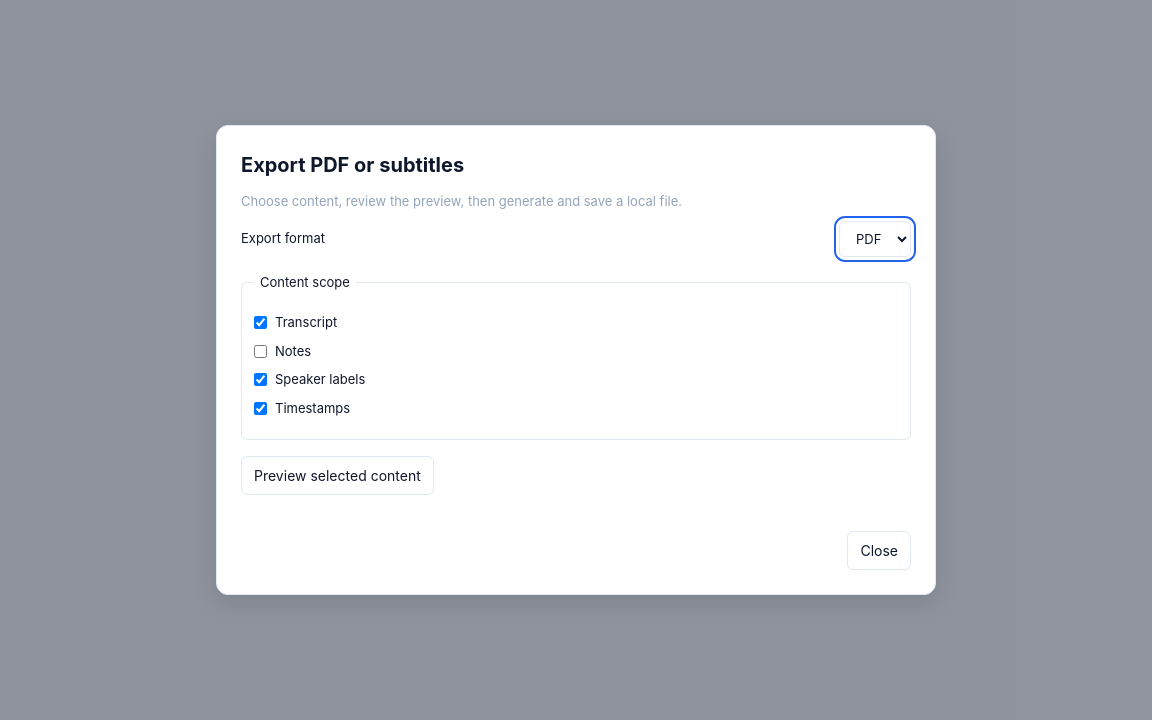
conflict refreshes accepted source and requires fresh review, preserving chosen scope
Click the button "Preview selected content" at {"x": 337, "y": 476}, box [241,456,434,495]
(page scrolled)
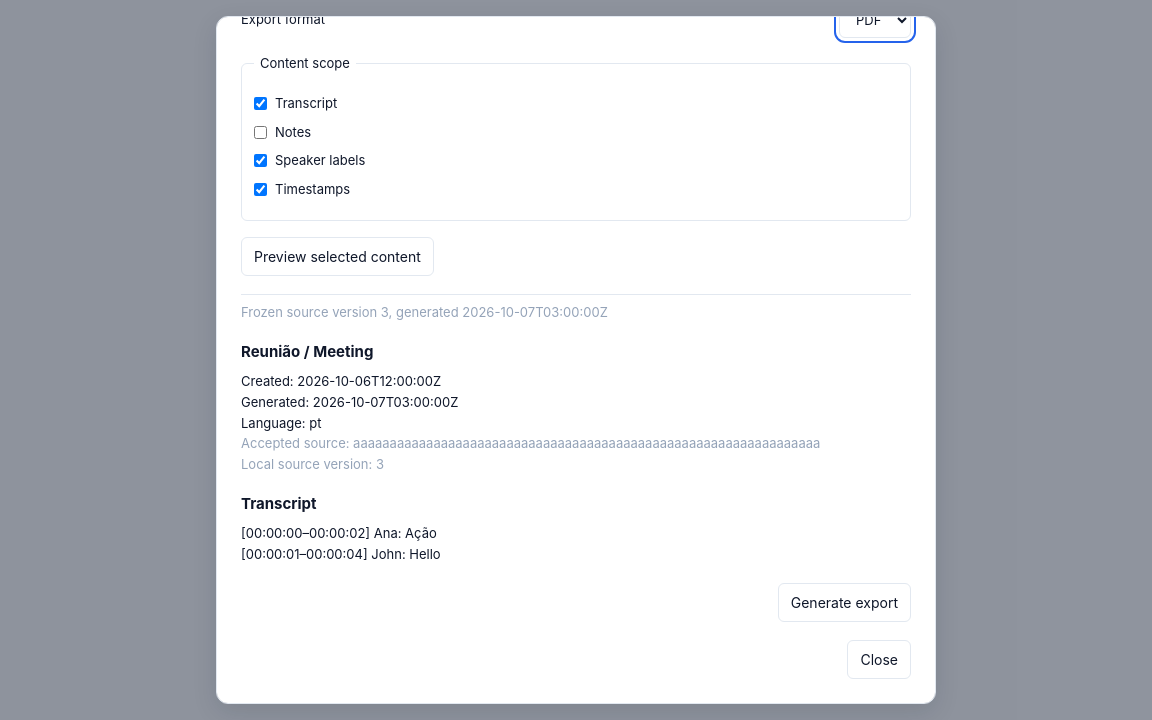
Click the button "Generate export" at {"x": 844, "y": 603}, box [778,583,911,622]
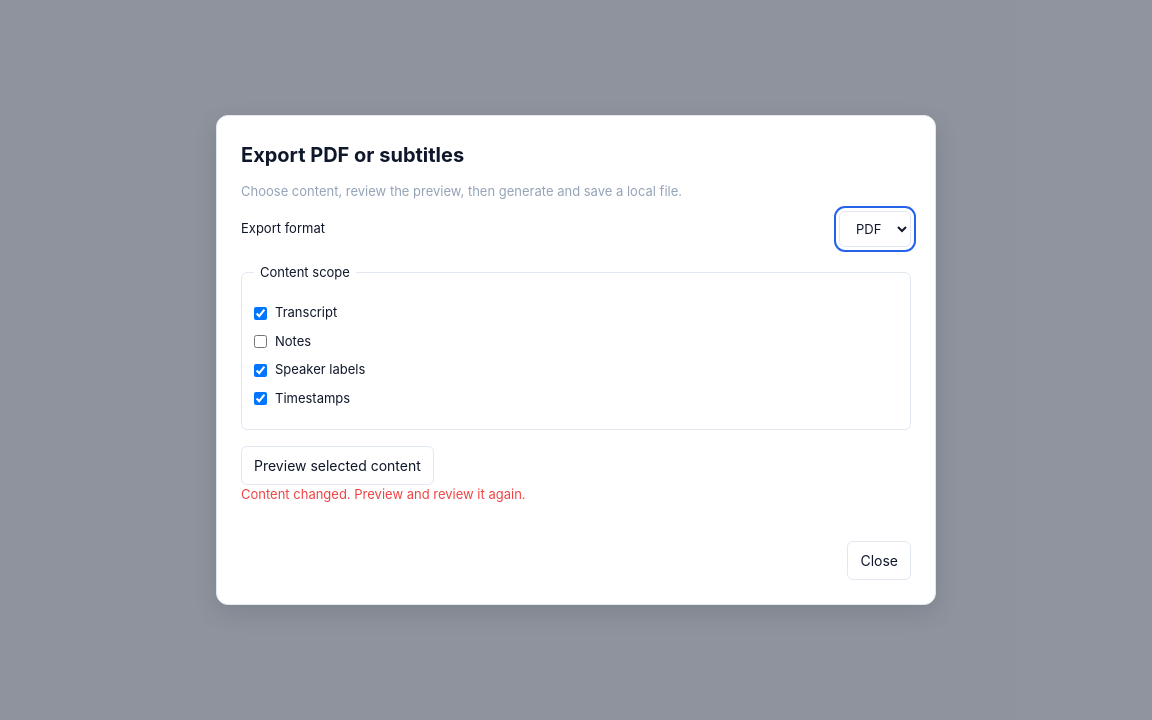
Check: the checkbox labelled "Transcript" is checked, box [254,306,267,320]
Check: the message shows "Content changed", box [241,486,526,502]
Check: the button "Generate export" is gone
